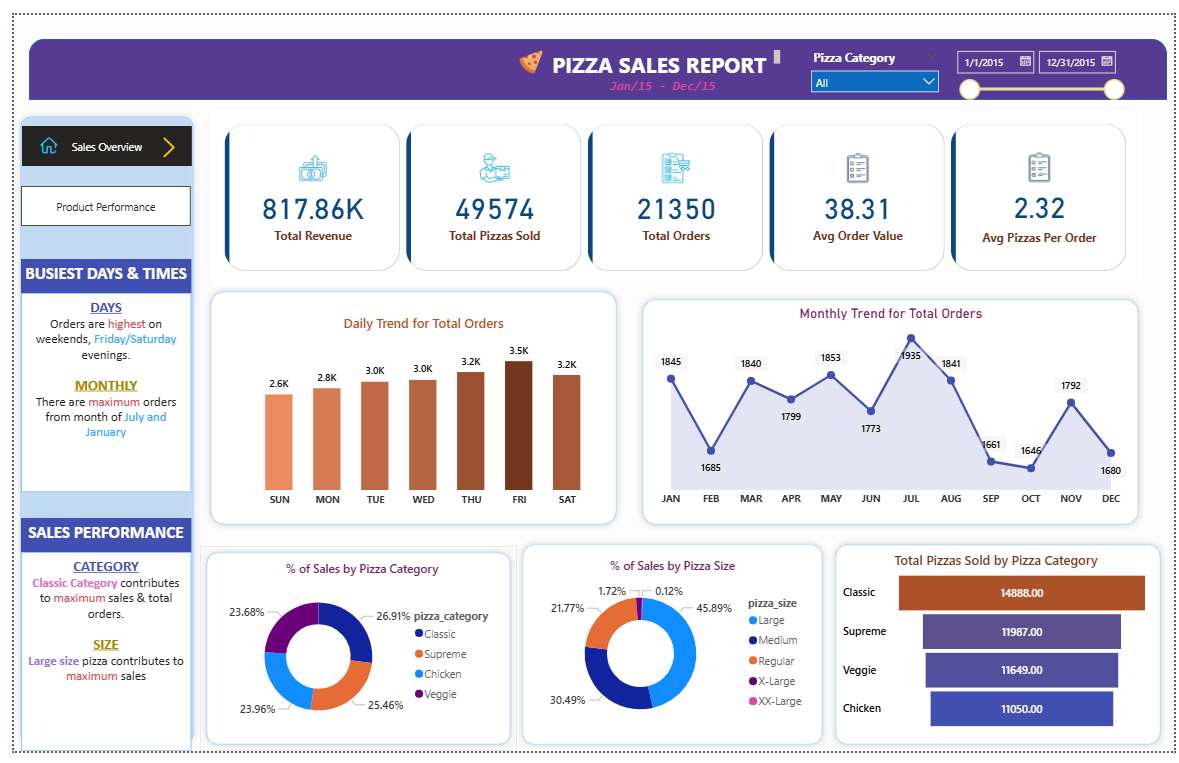

This screenshot's page, from the dashboard's own definition file:
{"tool":"powerbi","page":{"name":"Home","canvas":[1450,920],"ordinal":0},"visuals":[{"type":"cardVisual","fields":{"Data":["pizza_sales.Total Revenue","pizza_sales.Total Pizzas Sold","pizza_sales.Total Orders","pizza_sales.Avg Order Value","pizza_sales.Avg Pizzas Per Order"]},"box":[246.2,118.8,1165,218.8],"z":0},{"type":"shape","box":[18.8,30,1422.5,76.2],"z":1000},{"type":"textbox","box":[658.8,38.8,303.8,40],"z":2000},{"type":"textbox","box":[738.8,73.8,143.8,32.5],"z":3000},{"type":"image","box":[626.2,43.8,40,30],"z":4000},{"type":"shape","box":[237.5,337.5,523.8,307.5],"z":5000},{"type":"clusteredColumnChart","title":"Daily Trend for Total Orders","fields":{"Category":["pizza_sales.Order Day"],"Y":["pizza_sales.Total Orders"]},"box":[285,373.8,453.8,250],"z":6000},{"type":"shape","box":[777.5,347.5,636.2,297.5],"z":7000},{"type":"areaChart","title":"Monthly Trend for Total Orders","fields":{"Category":["pizza_sales.Order Month"],"Y":["pizza_sales.Total Orders"]},"box":[796.2,362.5,600,260],"z":8000},{"type":"shape","box":[232.5,663.8,396.2,256.2],"z":9000},{"type":"shape","box":[627.5,653.8,391.2,266.2],"z":10000},{"type":"shape","box":[1018.8,653.8,422.5,266.2],"z":11000},{"type":"shape","box":[0,118.8,232.5,801.2],"z":12000},{"type":"donutChart","title":"% of Sales by Pizza Category","fields":{"Category":["pizza_sales.pizza_category"],"Y":["pizza_sales.Total Revenue"]},"box":[256.2,681.2,357.5,221.2],"z":13000},{"type":"donutChart","title":"% of Sales by Pizza Size","fields":{"Y":["pizza_sales.Total Revenue"],"Category":["pizza_sales.pizza_size"]},"box":[643.8,677.5,358.8,221.2],"z":14000},{"type":"funnel","title":"Total Pizzas Sold by Pizza Category","fields":{"Category":["pizza_sales.pizza_category"],"Y":["pizza_sales.Total Pizzas Sold"]},"box":[1031.2,670,392.5,228.8],"z":15000},{"type":"textbox","box":[8.8,305,212.5,42.5],"z":16000},{"type":"textbox","box":[8.8,347.5,212.5,248.8],"z":17000},{"type":"textbox","box":[8.8,628.8,212.5,42.5],"z":18000},{"type":"textbox","box":[8.8,671.2,212.5,248.8],"z":19000},{"type":"slicer","fields":{"Values":["pizza_sales.pizza_category"]},"box":[986.2,37.5,180,68.8],"z":20000},{"type":"slicer","fields":{"Values":["pizza_sales.order_date"]},"box":[1166.2,35,230,83.8],"z":21000},{"type":"pageNavigator","box":[10,138.8,212.5,50],"z":22000},{"type":"pageNavigator","box":[8.8,213.8,212.5,50],"z":23000},{"type":"image","box":[176.2,152.5,35,26.2],"z":24000},{"type":"image","box":[18.8,152.5,50,21.2],"z":25000}]}

Visuals, with their boxes in screenshot pixels (x1, y1, x2, y2), scaled from the page's 1450x920 canvas onto the 1179x763 screenshot:
cardVisual - pizza_sales.Total Revenue x pizza_sales.Total Pizzas Sold: {"left": 200, "top": 99, "right": 1147, "bottom": 280}
shape: {"left": 15, "top": 25, "right": 1172, "bottom": 88}
textbox: {"left": 536, "top": 32, "right": 783, "bottom": 65}
textbox: {"left": 601, "top": 61, "right": 718, "bottom": 88}
image: {"left": 509, "top": 36, "right": 542, "bottom": 61}
shape: {"left": 193, "top": 280, "right": 619, "bottom": 535}
"Daily Trend for Total Orders" clusteredColumnChart: {"left": 232, "top": 310, "right": 601, "bottom": 517}
shape: {"left": 632, "top": 288, "right": 1149, "bottom": 535}
"Monthly Trend for Total Orders" areaChart: {"left": 647, "top": 301, "right": 1135, "bottom": 516}
shape: {"left": 189, "top": 551, "right": 511, "bottom": 762}
shape: {"left": 510, "top": 542, "right": 828, "bottom": 762}
shape: {"left": 828, "top": 542, "right": 1172, "bottom": 762}
shape: {"left": 0, "top": 99, "right": 189, "bottom": 762}
"% of Sales by Pizza Category" donutChart: {"left": 208, "top": 565, "right": 499, "bottom": 748}
"% of Sales by Pizza Size" donutChart: {"left": 523, "top": 562, "right": 815, "bottom": 745}
"Total Pizzas Sold by Pizza Category" funnel: {"left": 838, "top": 556, "right": 1158, "bottom": 745}
textbox: {"left": 7, "top": 253, "right": 180, "bottom": 288}
textbox: {"left": 7, "top": 288, "right": 180, "bottom": 495}
textbox: {"left": 7, "top": 521, "right": 180, "bottom": 557}
textbox: {"left": 7, "top": 557, "right": 180, "bottom": 762}
slicer - pizza_sales.pizza_category: {"left": 802, "top": 31, "right": 948, "bottom": 88}
slicer - pizza_sales.order_date: {"left": 948, "top": 29, "right": 1135, "bottom": 99}
pageNavigator: {"left": 8, "top": 115, "right": 181, "bottom": 157}
pageNavigator: {"left": 7, "top": 177, "right": 180, "bottom": 219}
image: {"left": 143, "top": 126, "right": 172, "bottom": 148}
image: {"left": 15, "top": 126, "right": 56, "bottom": 144}
